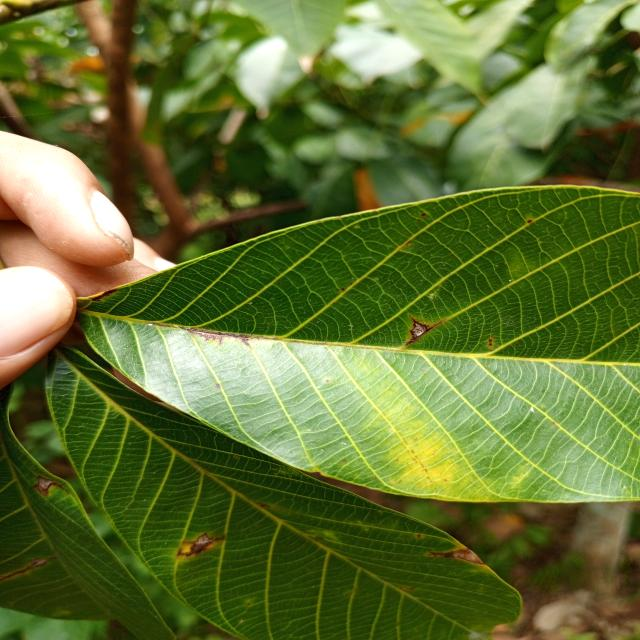Corynespora: (0, 555, 56, 581), (185, 328, 254, 346), (175, 533, 225, 557), (406, 314, 442, 346), (32, 473, 68, 496)
Leaf-Blight: (451, 549, 483, 564), (39, 478, 52, 489)
